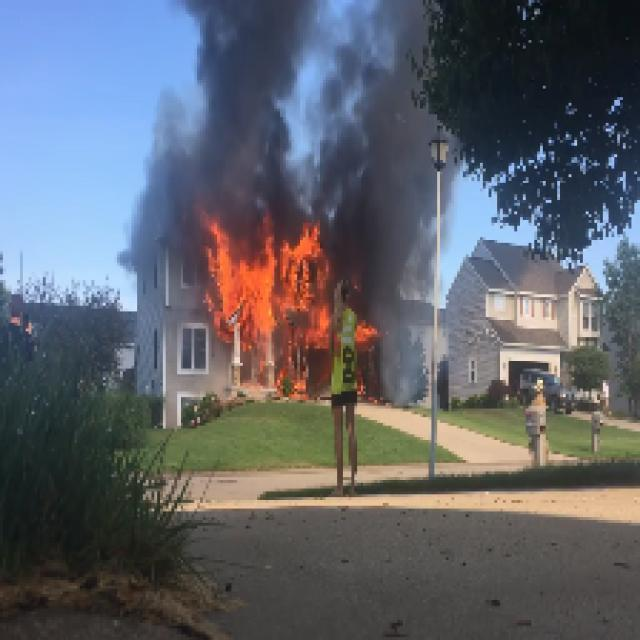Fire: (207, 247, 326, 343)
Smoke: (189, 17, 302, 230), (360, 42, 441, 325)
